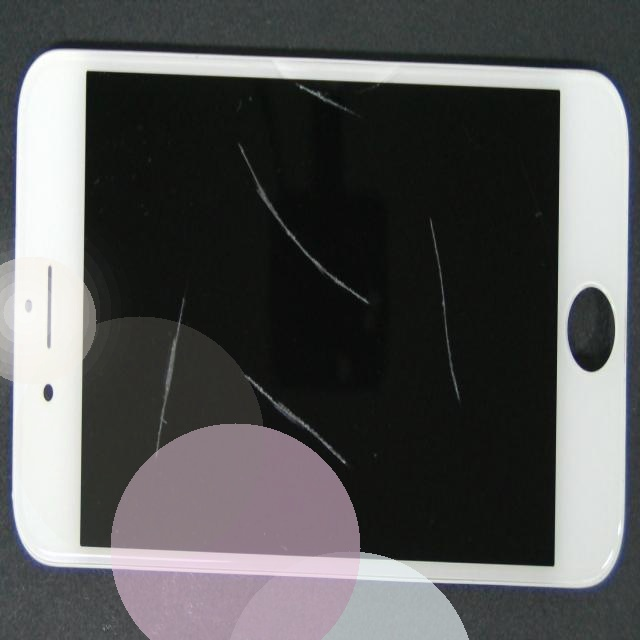scratch: (73, 245, 220, 640)
